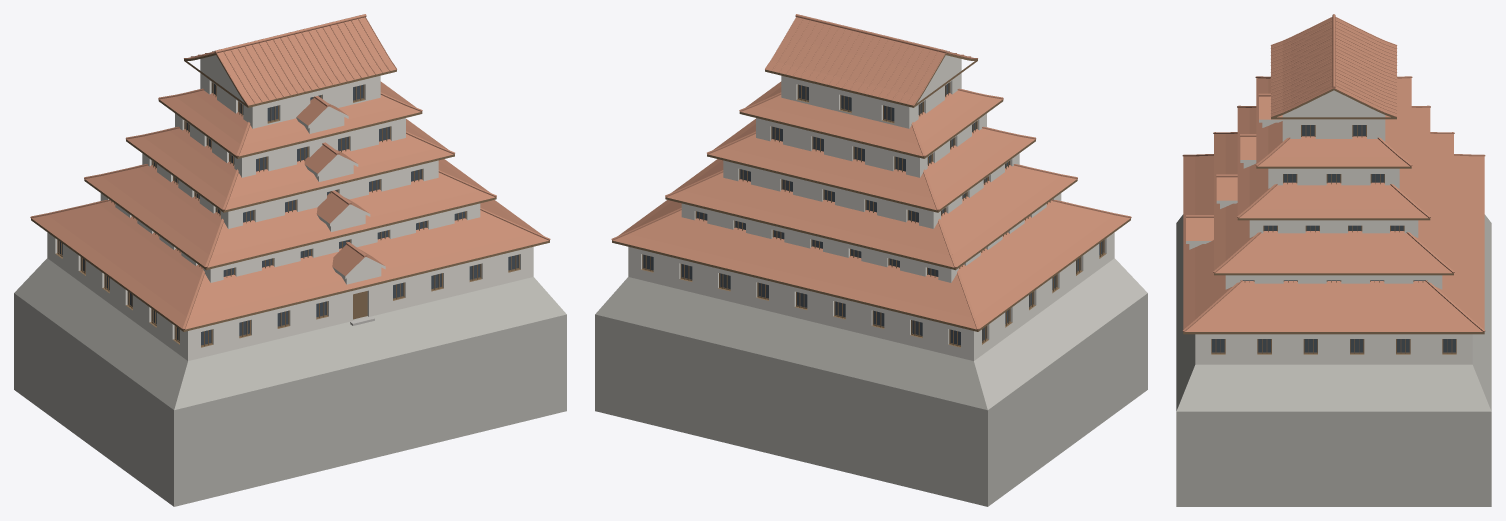
The model's file is japanese_castle_5_l.glb.
3 views of the same model, side by side, from view 1: azimuth 30°, elevation 25°; view 2: azimuth 150°, elevation 25°; view 3: azimuth 270°, elevation 25° (orthographic).
Visible parts, largest first — view 1: japanese_castle_5_l; view 2: japanese_castle_5_l; view 3: japanese_castle_5_l.
Part boxes in pixels (box(x1,y1,x2,y2)): japanese_castle_5_l: box(14, 14, 566, 506); japanese_castle_5_l: box(595, 14, 1147, 506); japanese_castle_5_l: box(1176, 14, 1491, 506).
Size of the model in its own units: 34 by 30.45 by 24.
